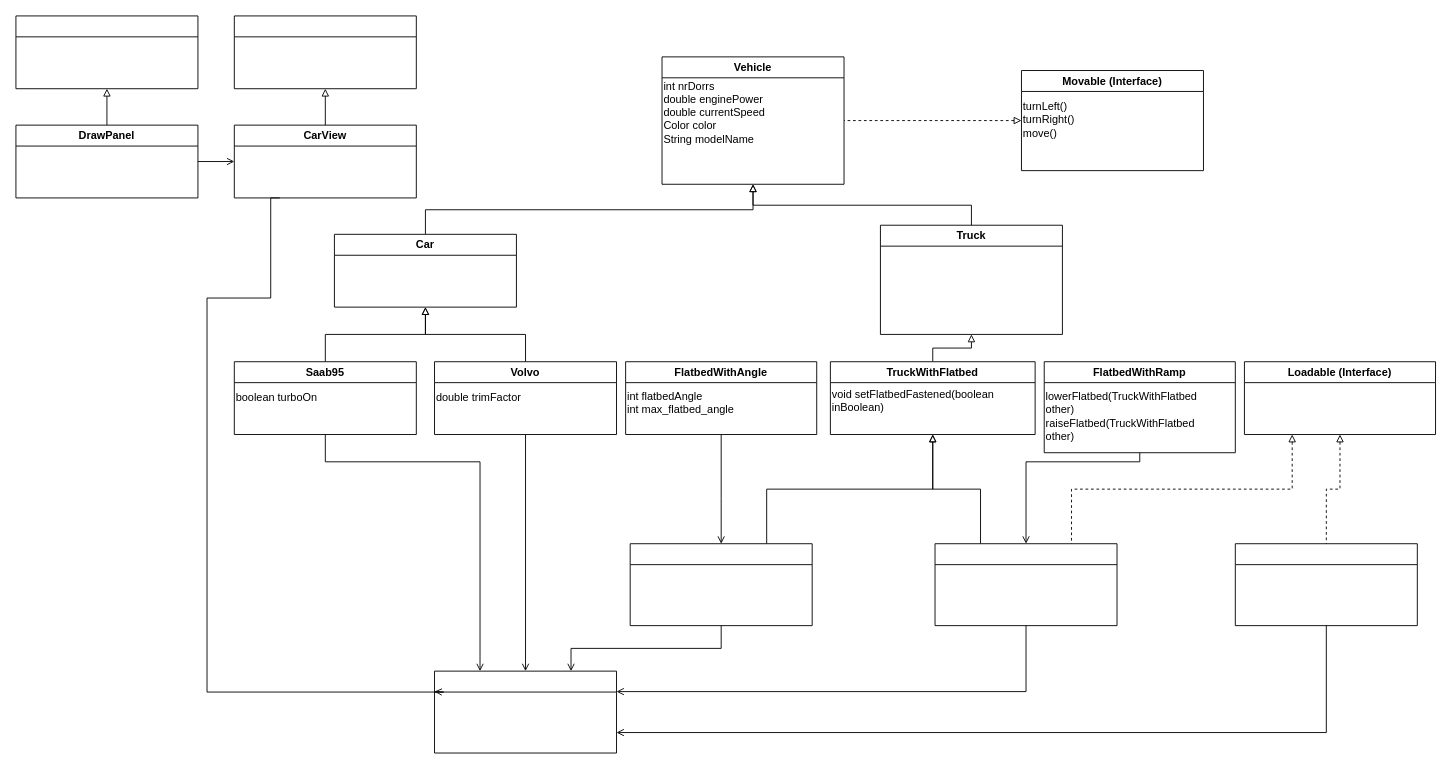
The diagram is 1451 pixels wide and 769 high, and some of its shapes have lost their labels. Each missing label, with the centre of its shape:
"CarController" goes at (x=525, y=711).
"CarRepairShop" goes at (x=1325, y=584).
"Cartransporter" goes at (x=1025, y=584).
"JFrame" goes at (x=324, y=52).
"JPanel" goes at (x=106, y=52).
"Scania" goes at (x=720, y=584).
